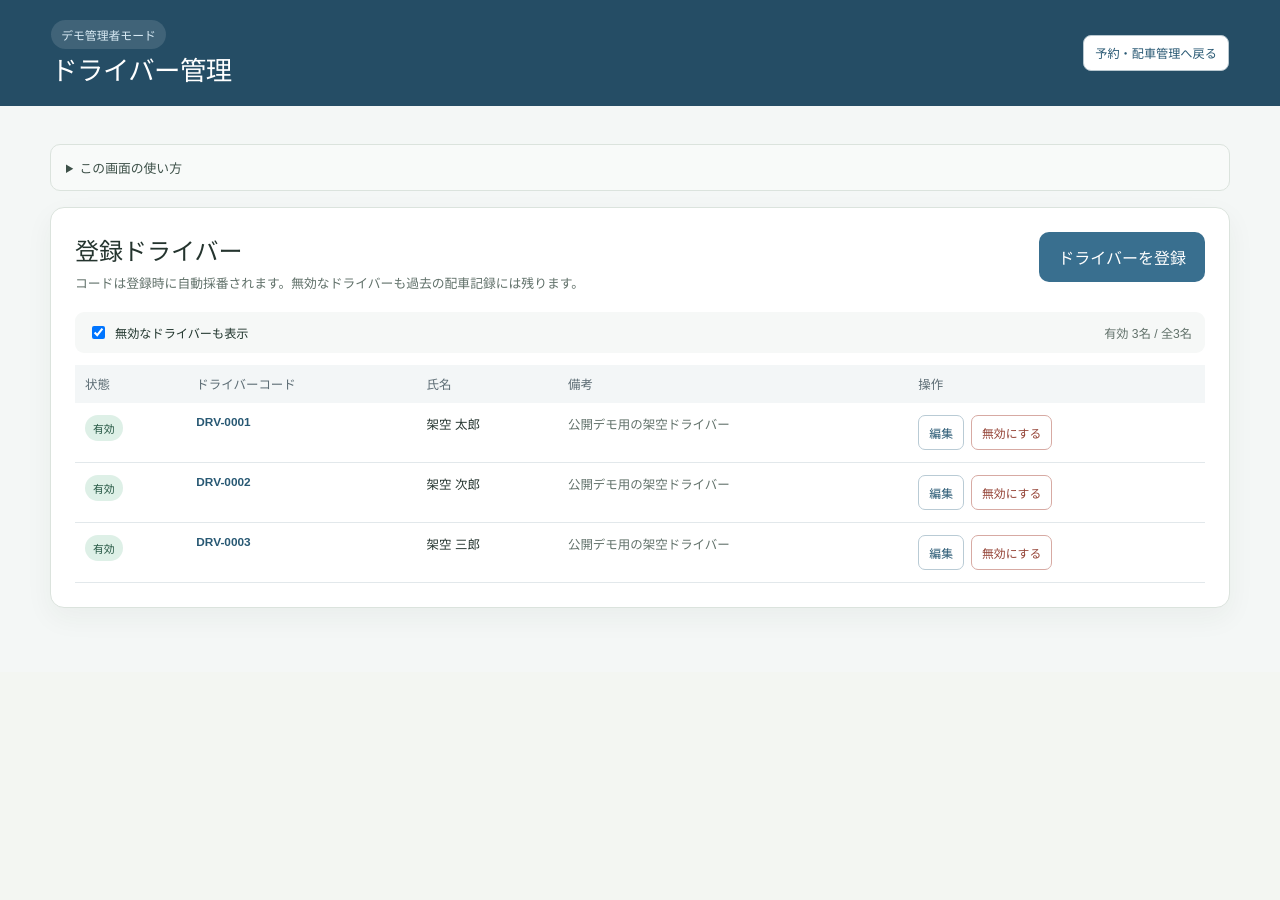
Test: ドライバー管理画面 › 一覧から登録・編集できる
The width and height of the screenshot is (1280, 900).
Expected: the heading "登録ドライバー" is shown, [75,238,242,265]
Expected: the text "DRV-0001" is shown, [196,415,251,429]
Click the button "ドライバーを登録" at [1122, 257], box [1039,232,1205,282]
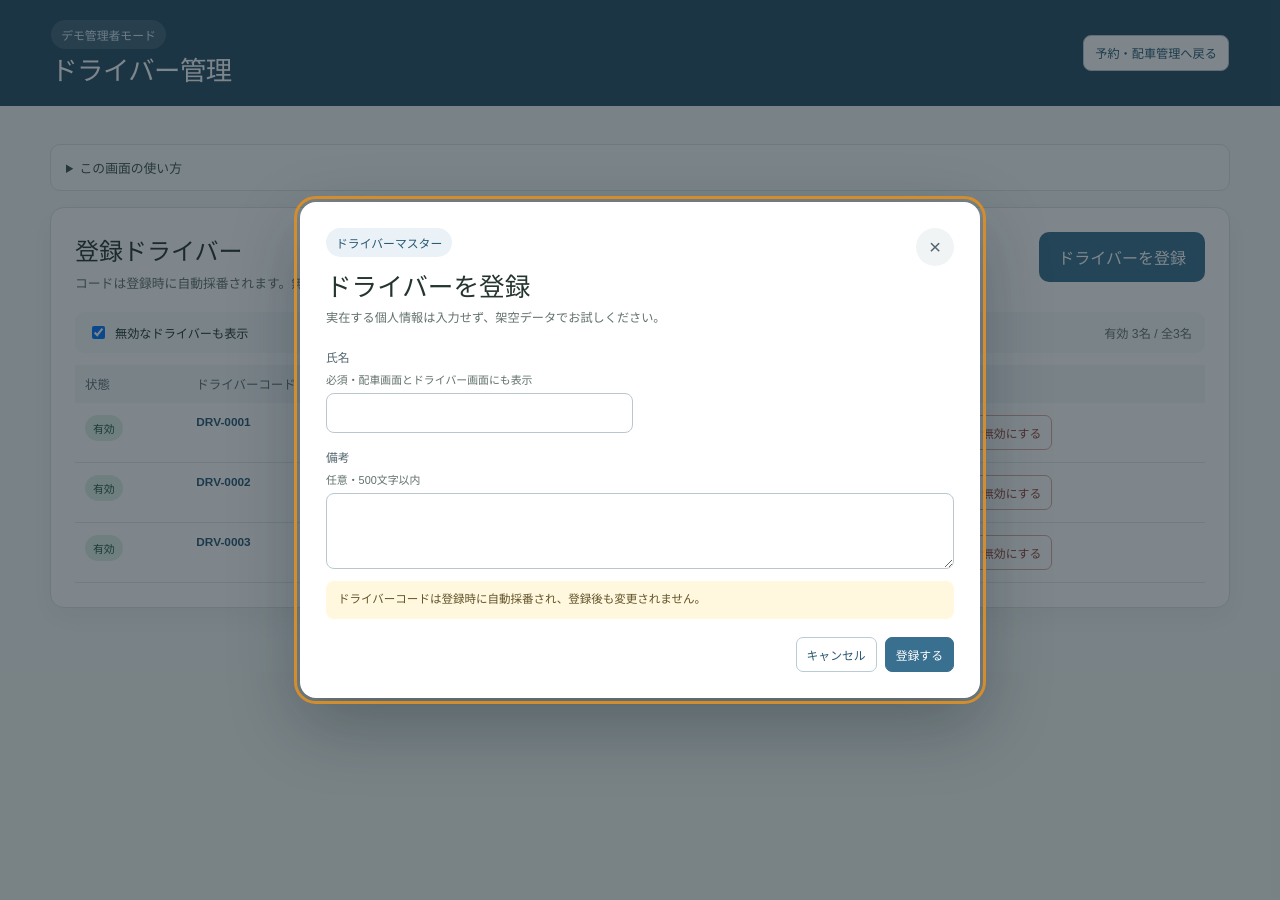
Type "架空 四郎" into the field labelled "氏名" at [479, 413], box [326,393,632,433]
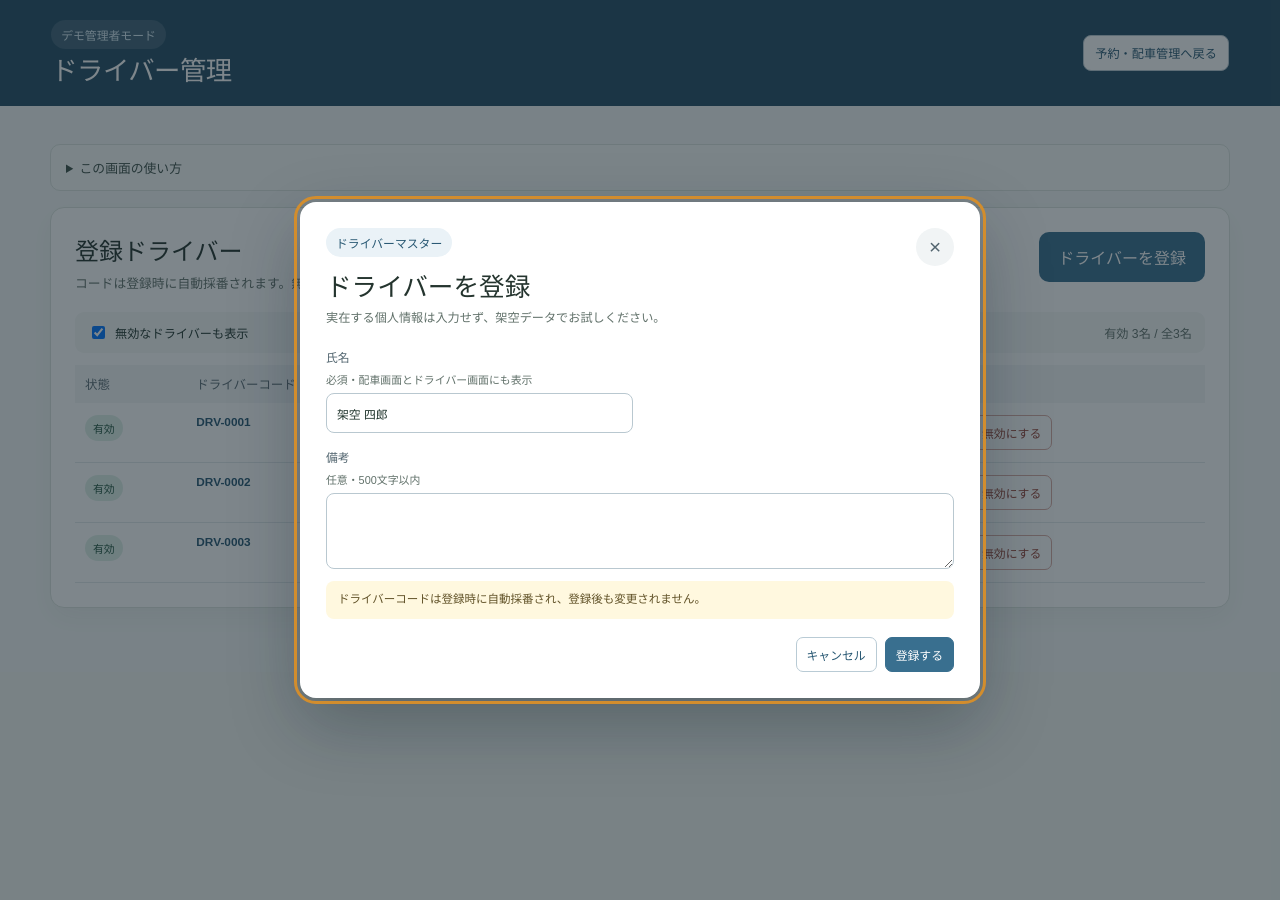
Click the button "登録する" at [919, 654], box [885,637,954,672]
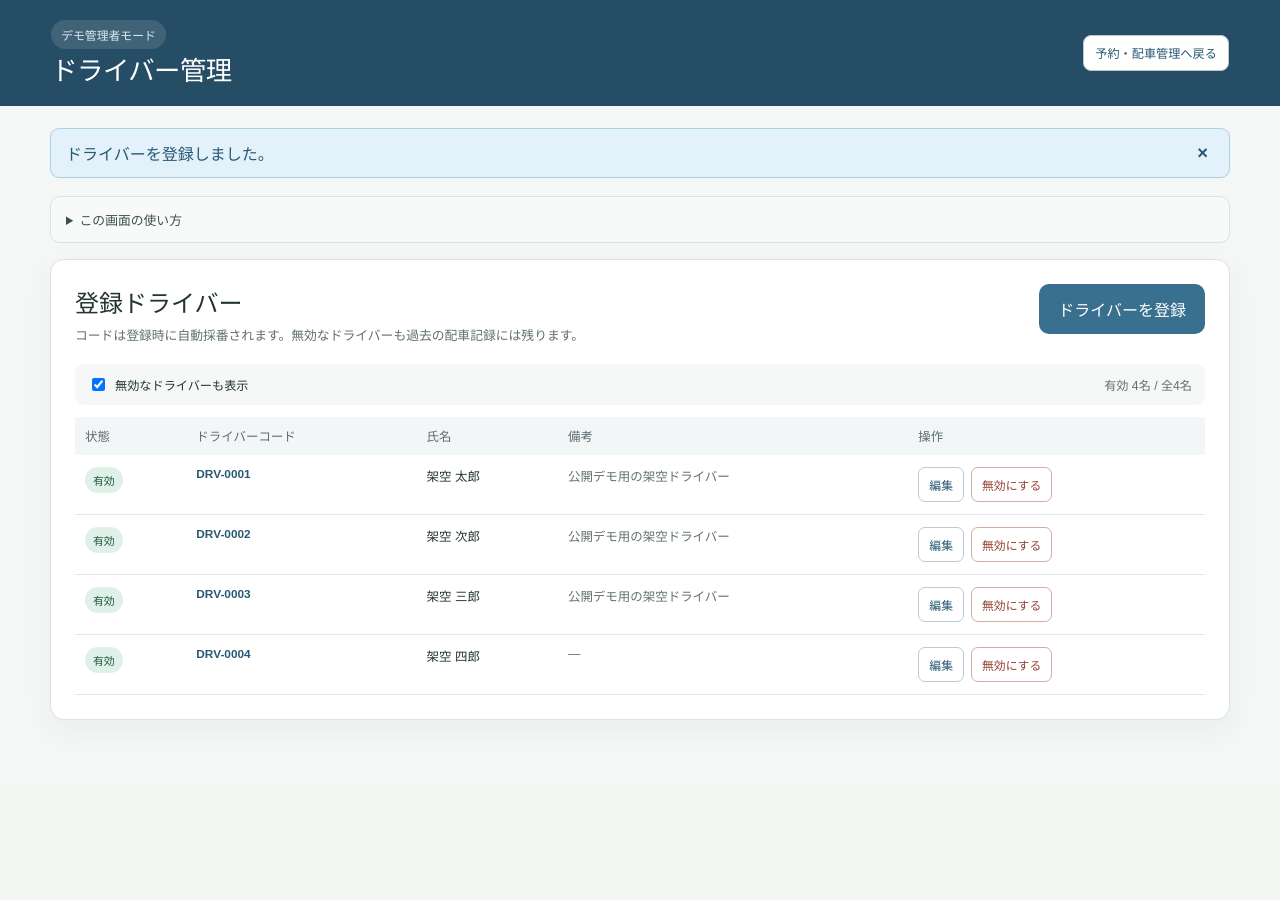
Now the text "ドライバーを登録しました。" is shown, box [66,146,274,163]
Now the text "DRV-0004" is shown, box [196,647,251,661]
Click the button "編集" in the row of "DRV-0004" at [941, 665], box [918,647,964,682]
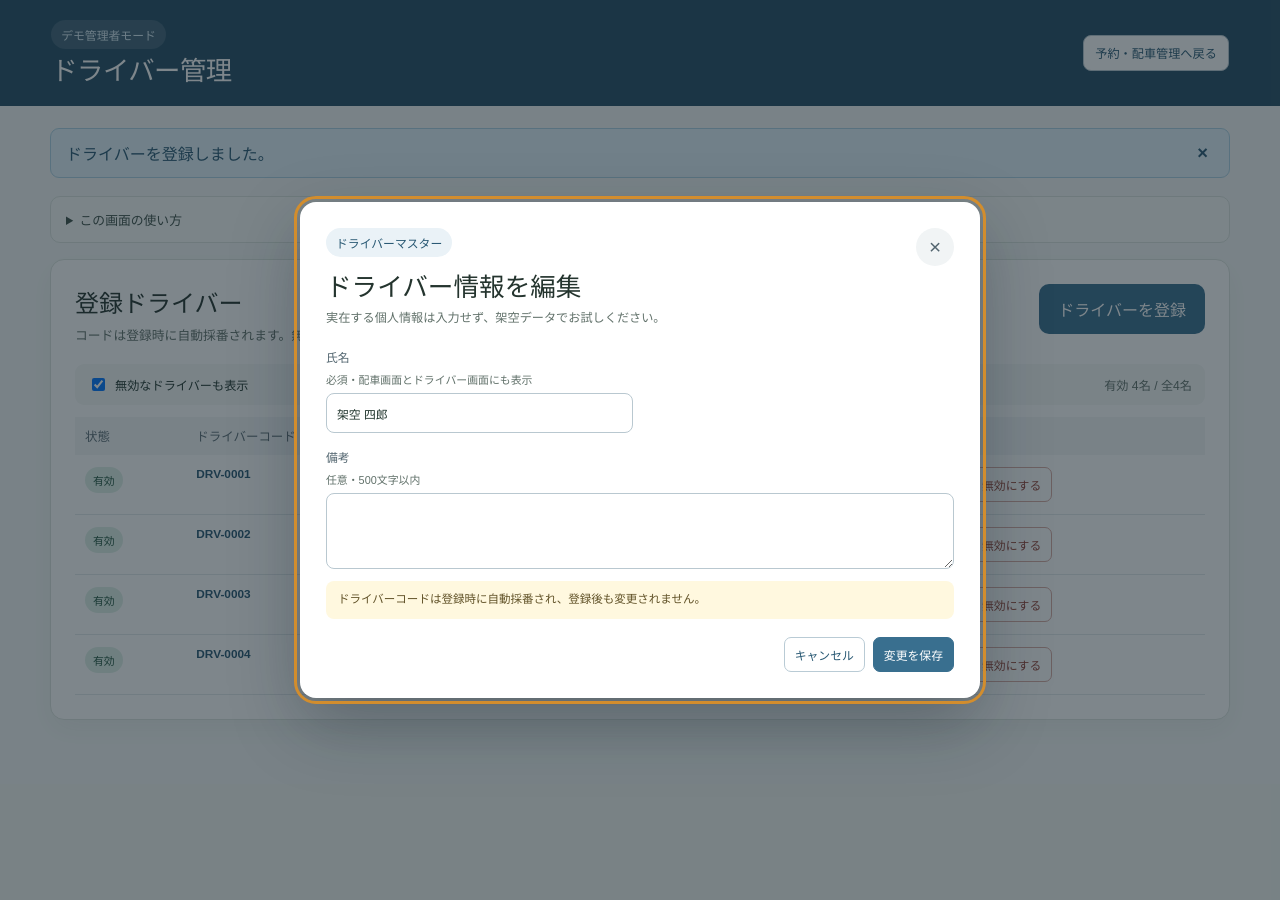
Replace the text in the field labelled "氏名" with "架空 四郎（研修済み）" at [479, 413], box [326,393,632,433]
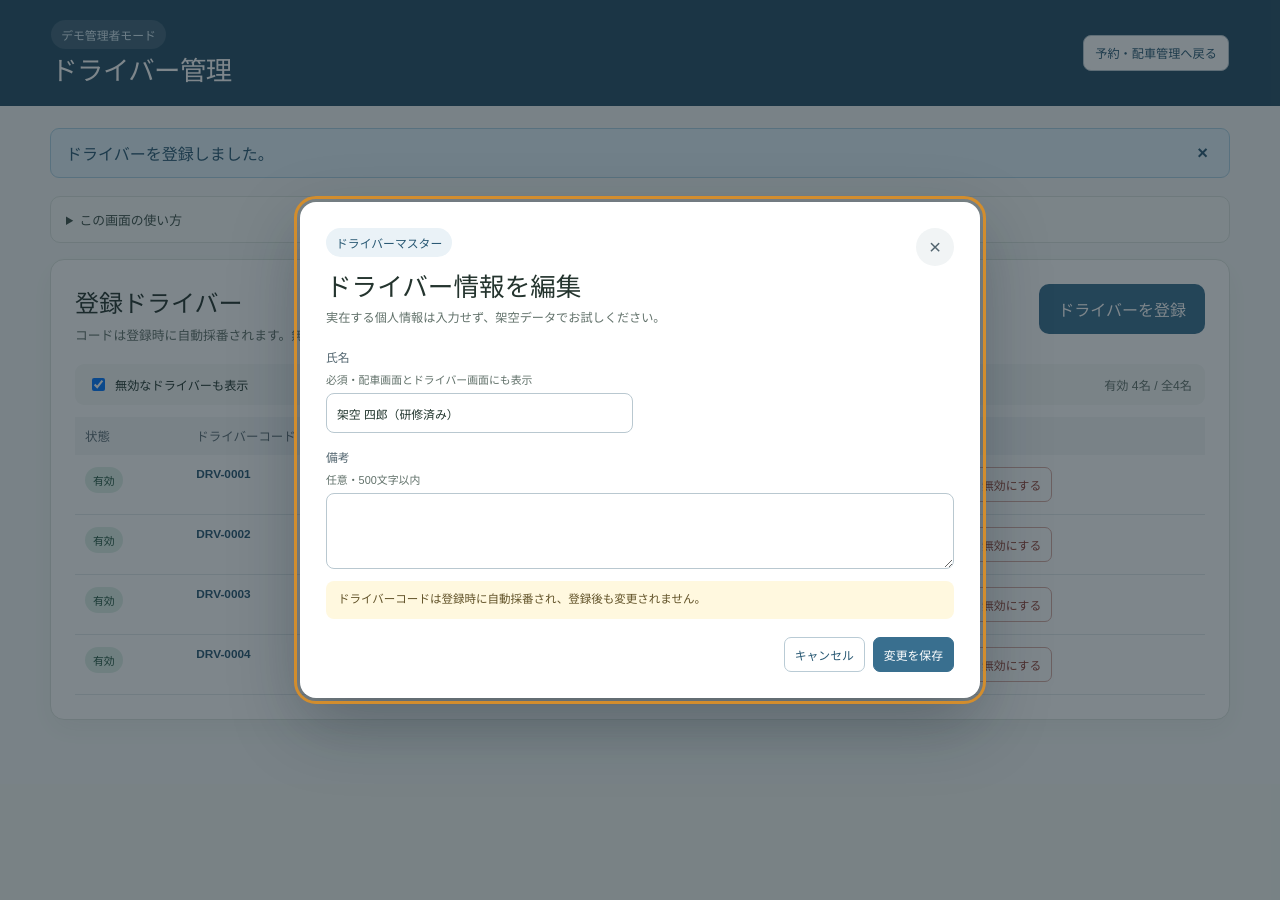
Click the button "変更を保存" at [913, 654], box [873,637,954,672]
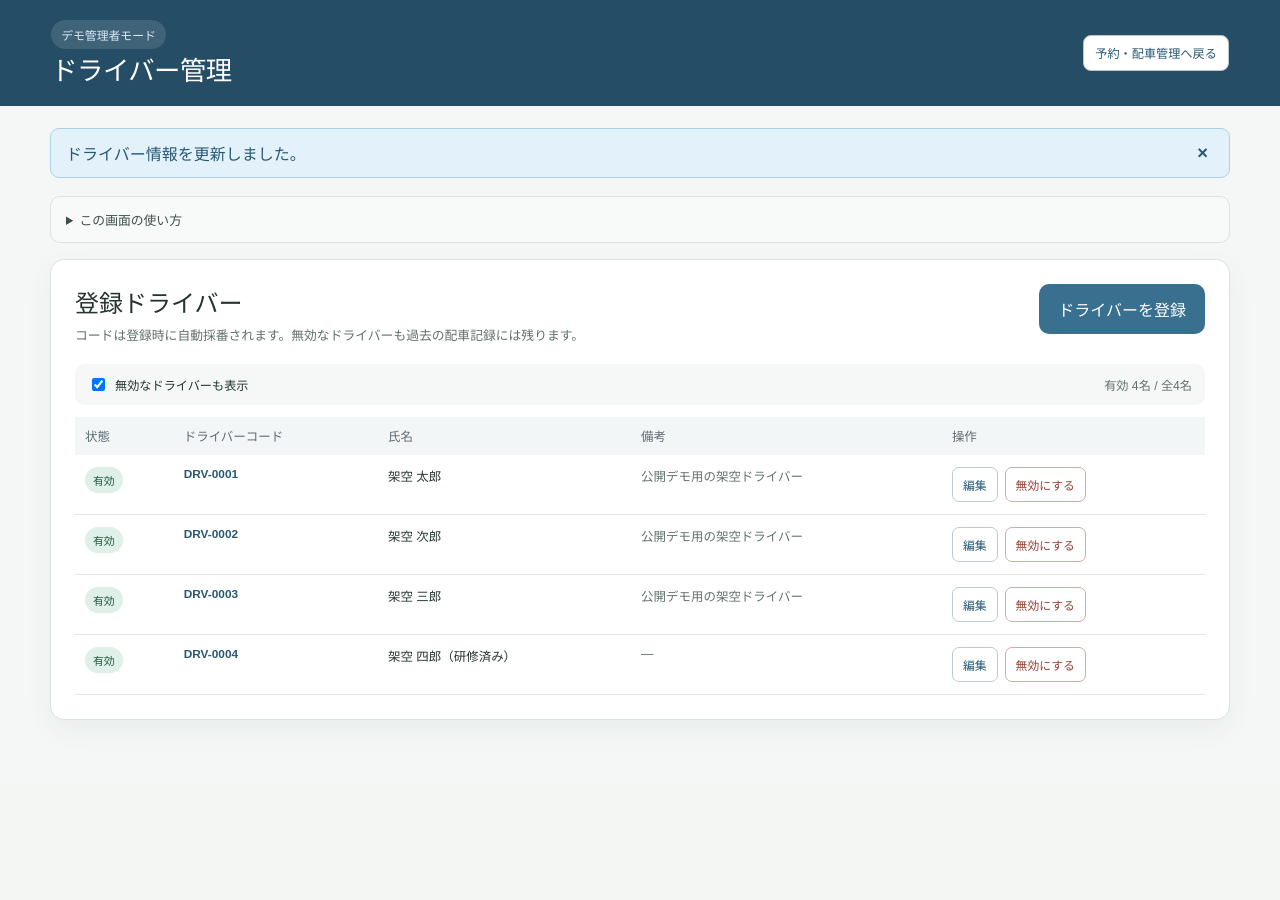
Now the text "ドライバー情報を更新しました。" is shown, box [66,146,306,163]
Now the text "架空 四郎（研修済み）" is shown, box [378,635,631,695]
